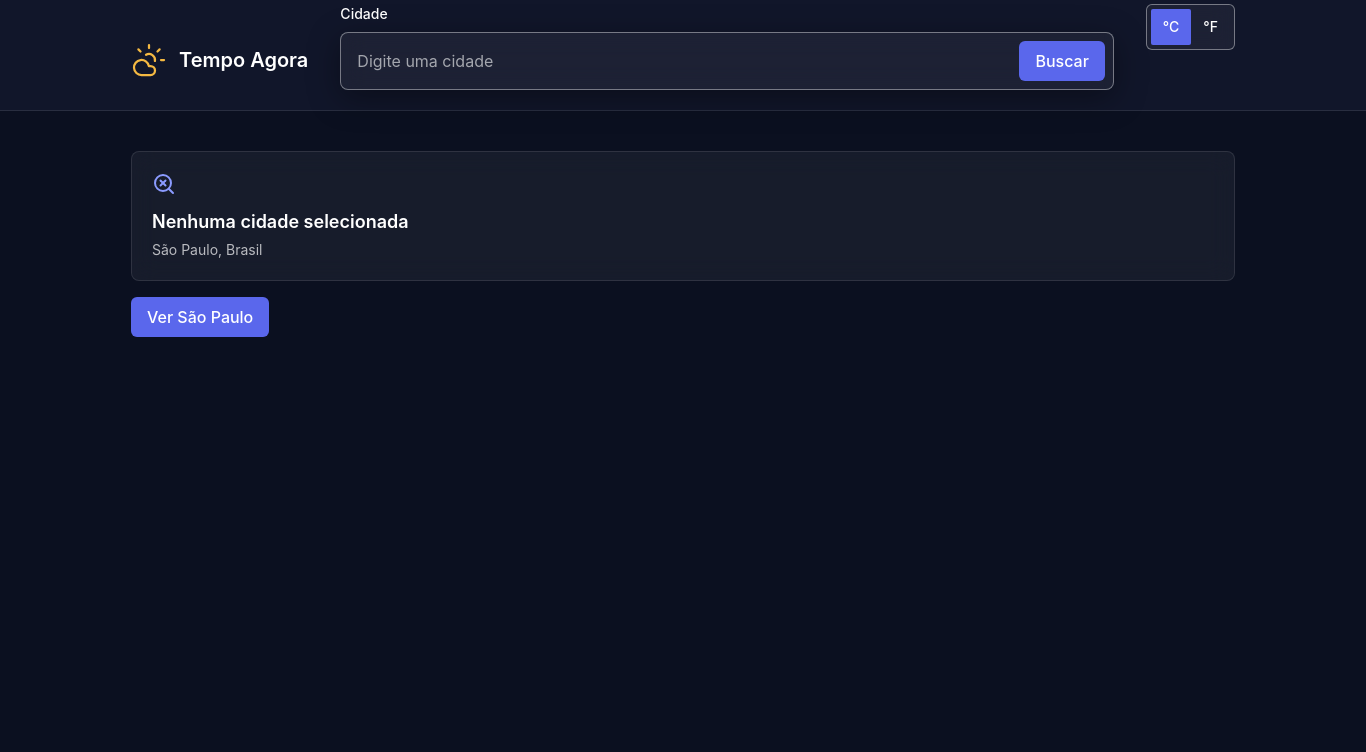
Test: App › apresenta como indisponíveis os campos omitidos no forecast
Click the button "Ver São Paulo": (200, 317) [131, 297, 269, 337]
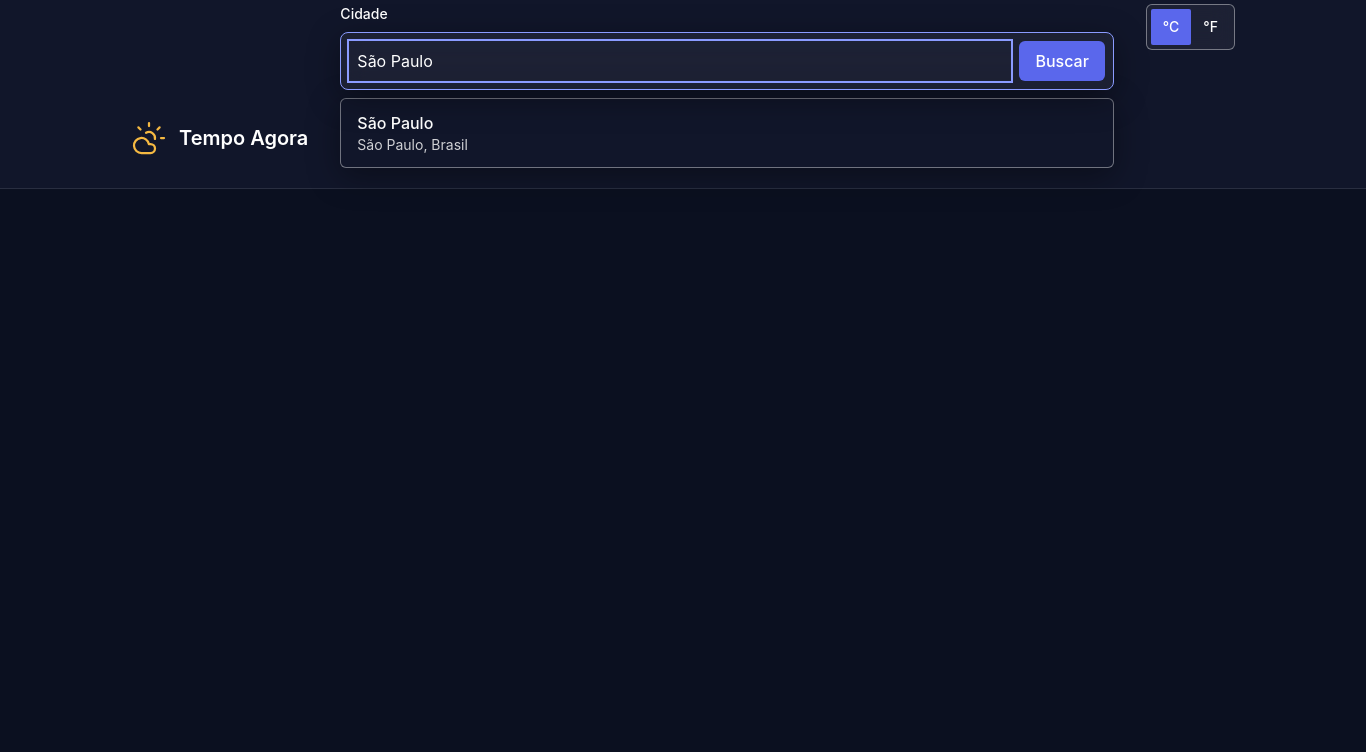
Click the option "São Paulo São Paulo, Brasil": (395, 123) [341, 99, 1113, 167]
(page scrolled)
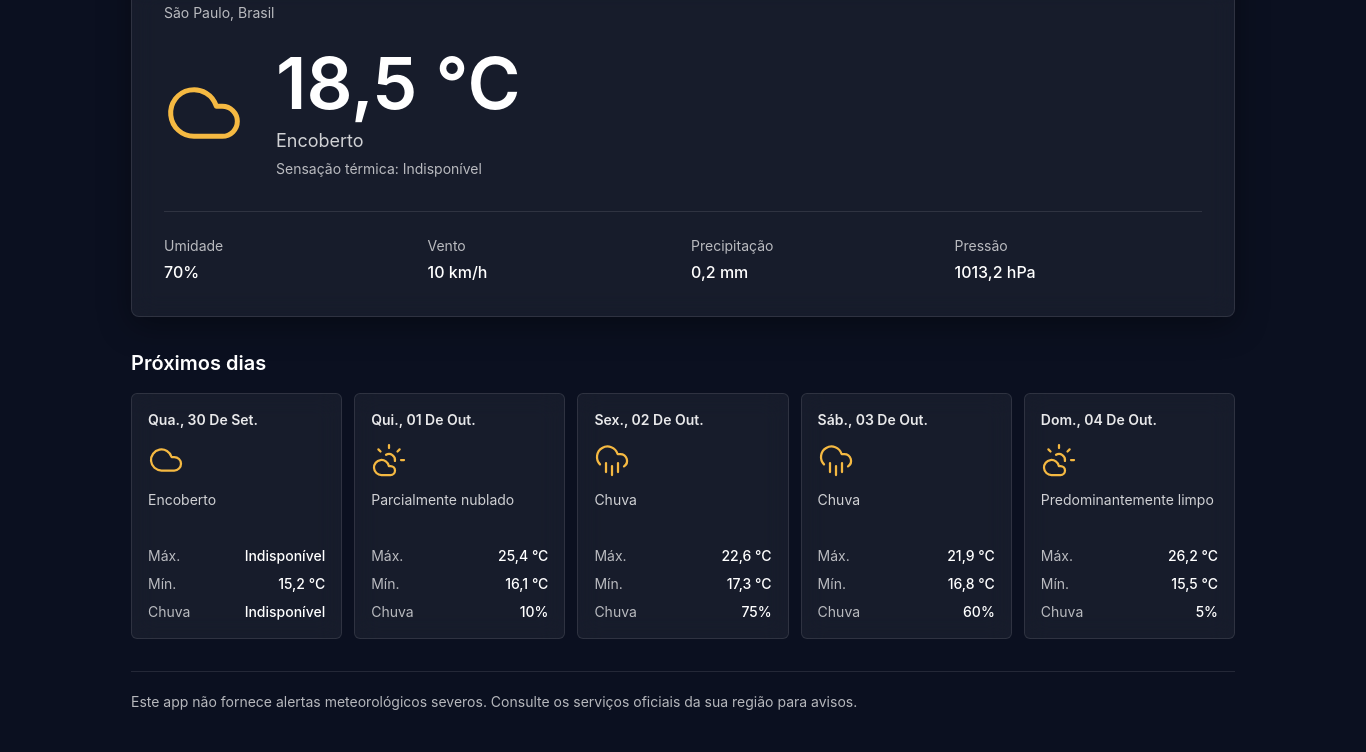
expect the text "18,5 °C" is shown: met, box [276, 47, 520, 119]
expect the text "Sensação térmica: Indisponível" is shown: met, box [276, 160, 482, 177]
expect the text "15,2 °C" is shown: met, box [278, 574, 325, 594]
